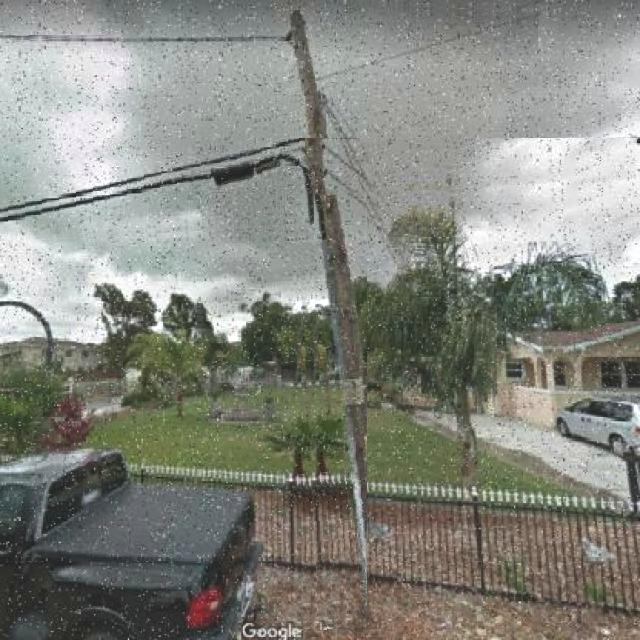pole: (289, 10, 367, 626)
wire: (0, 138, 426, 212), (315, 10, 539, 83), (0, 167, 268, 223), (296, 167, 315, 229), (0, 35, 176, 39)
